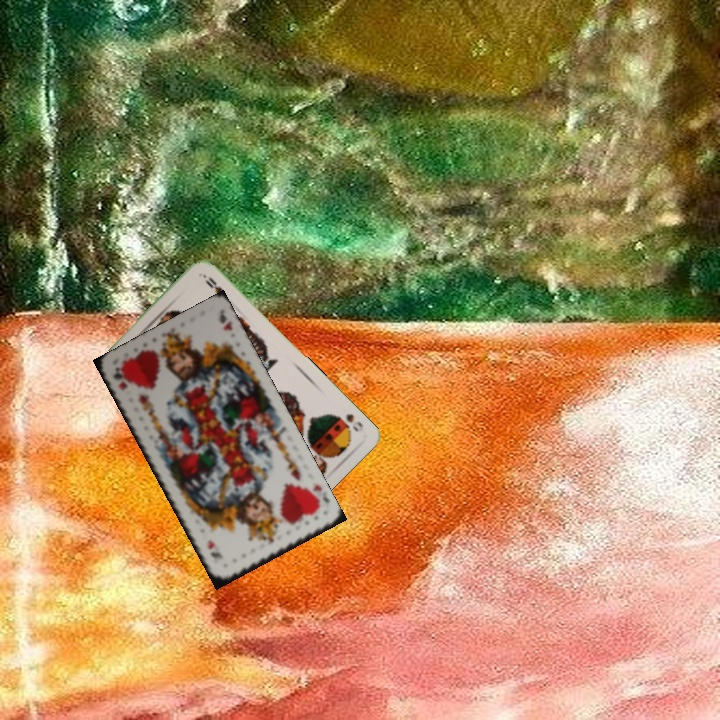HK: (109, 363, 130, 393), (309, 480, 333, 506)
SO: (342, 410, 366, 434)
